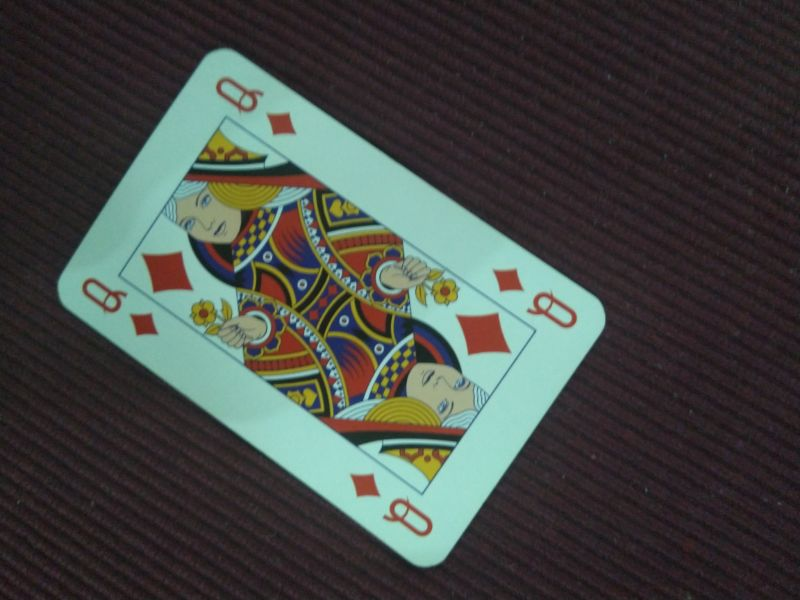Qd: (342, 467, 439, 541), (489, 262, 580, 330), (212, 72, 299, 139), (77, 273, 162, 339)
